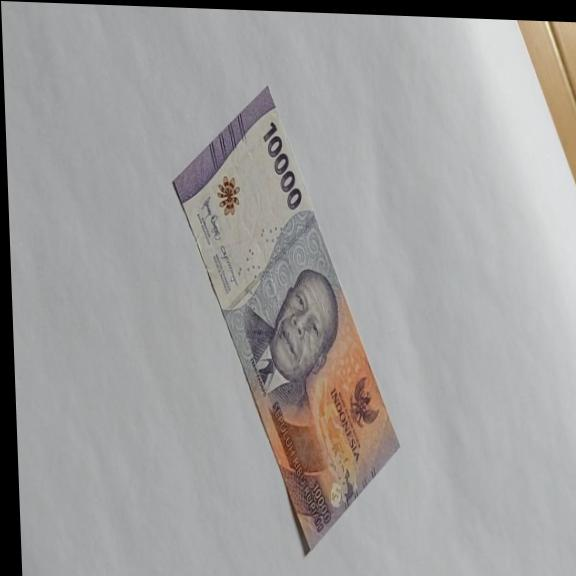Kertas: (168, 81, 404, 561), (261, 119, 302, 212)
